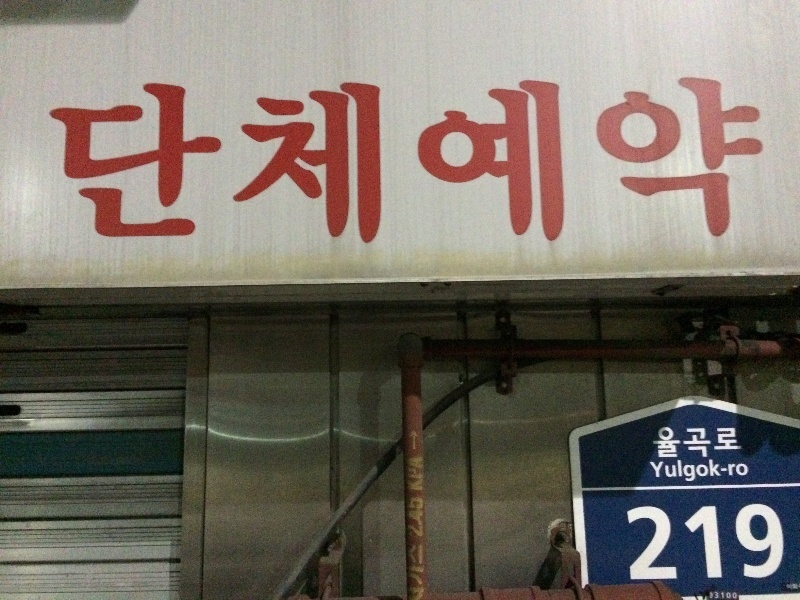text: (369, 77, 385, 251), (417, 66, 432, 249), (433, 66, 448, 249), (449, 66, 464, 249), (465, 66, 480, 249), (481, 66, 496, 249), (497, 66, 512, 249), (513, 66, 528, 249), (529, 66, 544, 249), (545, 66, 560, 249), (561, 66, 576, 249), (577, 66, 592, 249), (593, 66, 608, 249), (609, 66, 624, 249), (625, 66, 640, 249), (641, 66, 656, 249), (657, 66, 672, 249), (673, 66, 688, 249), (689, 66, 704, 249), (705, 66, 720, 249), (721, 66, 736, 249), (737, 66, 752, 249), (753, 66, 768, 249), (49, 77, 64, 251), (65, 77, 80, 251), (81, 77, 96, 251), (97, 77, 112, 251), (113, 77, 128, 251), (129, 77, 144, 251), (145, 77, 160, 251), (161, 77, 176, 251), (177, 77, 192, 251), (193, 77, 208, 251), (209, 77, 224, 251), (225, 77, 240, 251), (241, 77, 256, 251), (257, 77, 272, 251), (273, 77, 288, 251), (289, 77, 304, 251), (305, 77, 320, 251), (321, 77, 336, 251), (337, 77, 352, 251), (353, 77, 368, 251), (408, 66, 416, 249), (625, 503, 640, 584), (641, 503, 656, 584), (657, 503, 672, 584), (673, 503, 688, 584), (689, 503, 704, 584), (705, 503, 720, 584), (721, 503, 736, 584), (737, 503, 752, 584), (753, 503, 768, 584), (769, 503, 784, 584), (769, 66, 773, 249), (657, 426, 672, 461), (673, 426, 688, 461), (689, 426, 704, 461), (705, 426, 720, 461), (721, 426, 736, 461), (45, 77, 48, 251), (405, 494, 416, 541), (785, 503, 791, 584), (417, 494, 427, 541), (406, 543, 416, 586), (657, 458, 672, 486), (673, 458, 688, 486), (689, 458, 704, 486), (705, 458, 720, 486), (721, 458, 736, 486), (405, 457, 416, 494), (737, 458, 750, 486), (737, 426, 747, 461), (417, 543, 424, 586), (417, 457, 425, 494), (649, 426, 656, 461), (649, 458, 656, 486), (785, 583, 799, 593), (721, 592, 736, 600), (407, 585, 416, 598), (707, 592, 720, 600), (417, 585, 425, 598), (623, 503, 624, 584), (737, 592, 740, 600)
